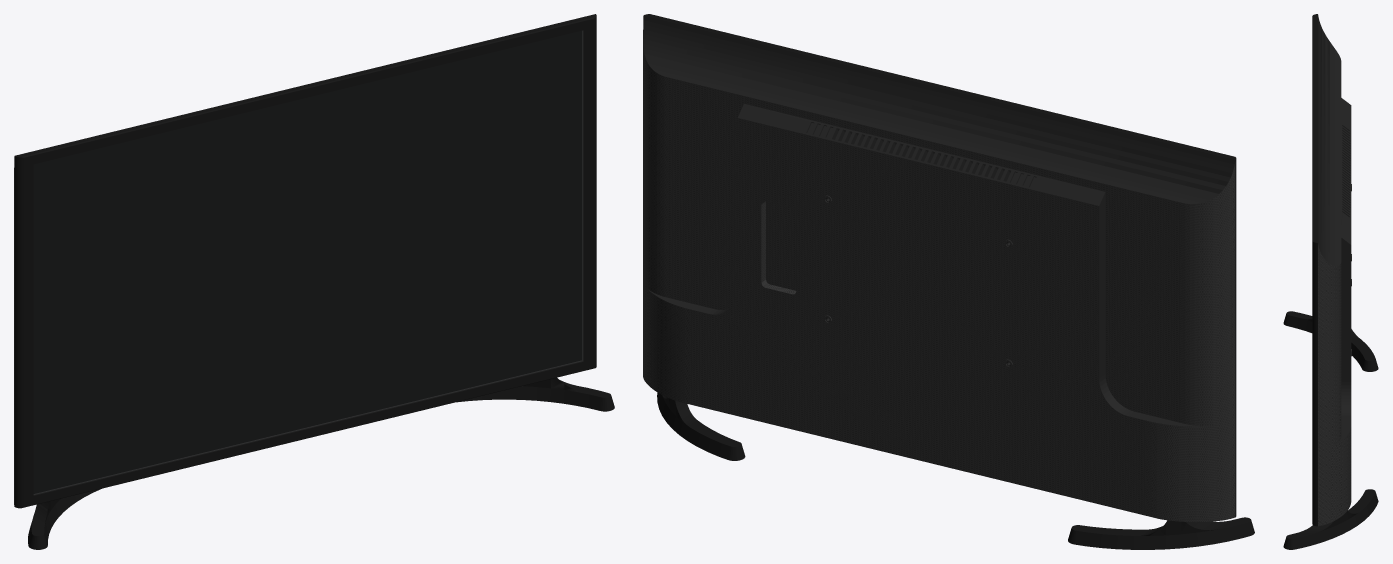
The picture shows the model from 3 angles, left to right: view 1: azimuth 30°, elevation 25°; view 2: azimuth 150°, elevation 25°; view 3: azimuth 270°, elevation 25°; orthographic projection. The views are drawn at different scales.
Parts seen in each view (by area): view 1: Diferencia, TV_LED_32_; view 2: Diferencia, TV_LED_32_; view 3: Diferencia, TV_LED_32_.
Part boxes in pixels (x1,y1,x2,y2): Diferencia: (14, 14, 596, 508); TV_LED_32_: (28, 377, 614, 549); Diferencia: (643, 14, 1236, 522); TV_LED_32_: (657, 392, 1254, 549); Diferencia: (1312, 14, 1351, 526); TV_LED_32_: (1283, 311, 1378, 549).
Bounding box in the file's own units: 0.7483 × 0.466 × 0.1307.
7 materials, 1 textured.
